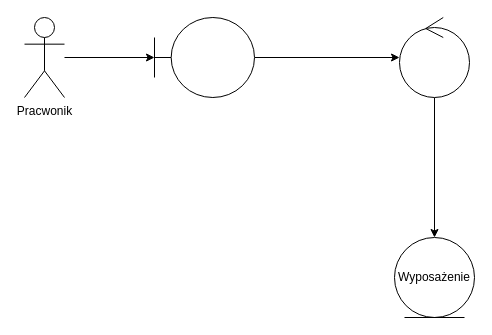
Image size: 492x335. Some labels were removed from this diagram. The box of each missing label's shape, as (x1, y1, x2, y2) in pixels:
Formularz Rejestracji: (154, 16, 254, 98)
Zmiana Statusu: (398, 16, 470, 98)
